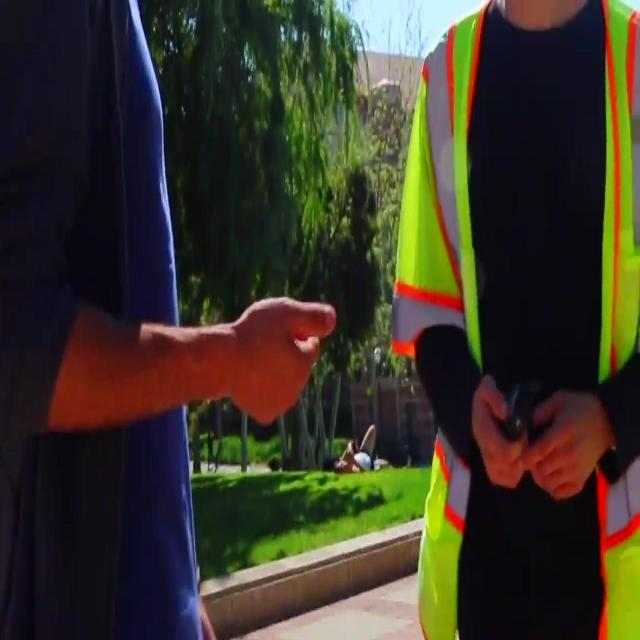Vest: (395, 0, 639, 638)
